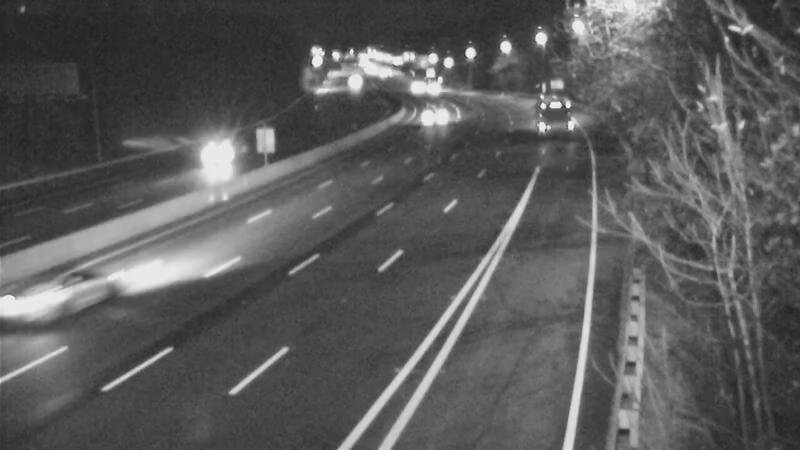vehicle: (1, 255, 105, 365), (185, 116, 265, 196), (388, 62, 438, 112), (406, 63, 456, 113), (528, 87, 578, 137), (409, 91, 459, 141)
